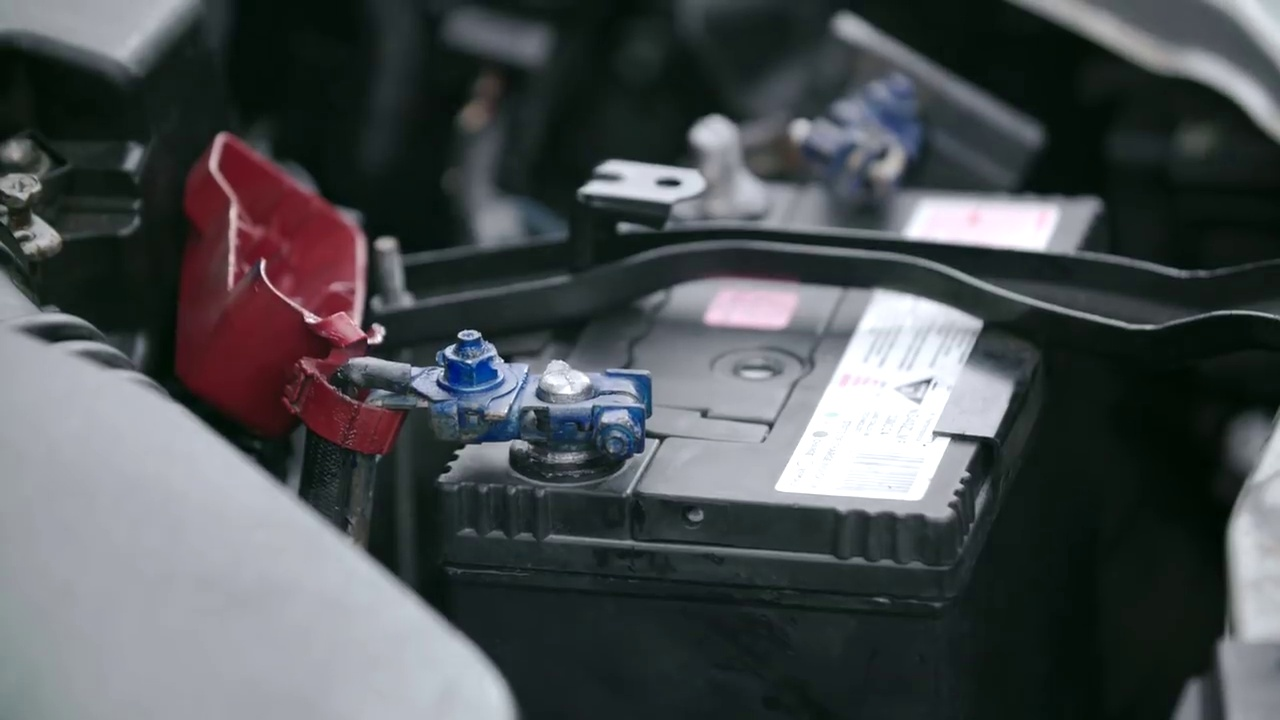battery: (480, 142, 1107, 564)
pos_connected: (223, 258, 657, 479)
